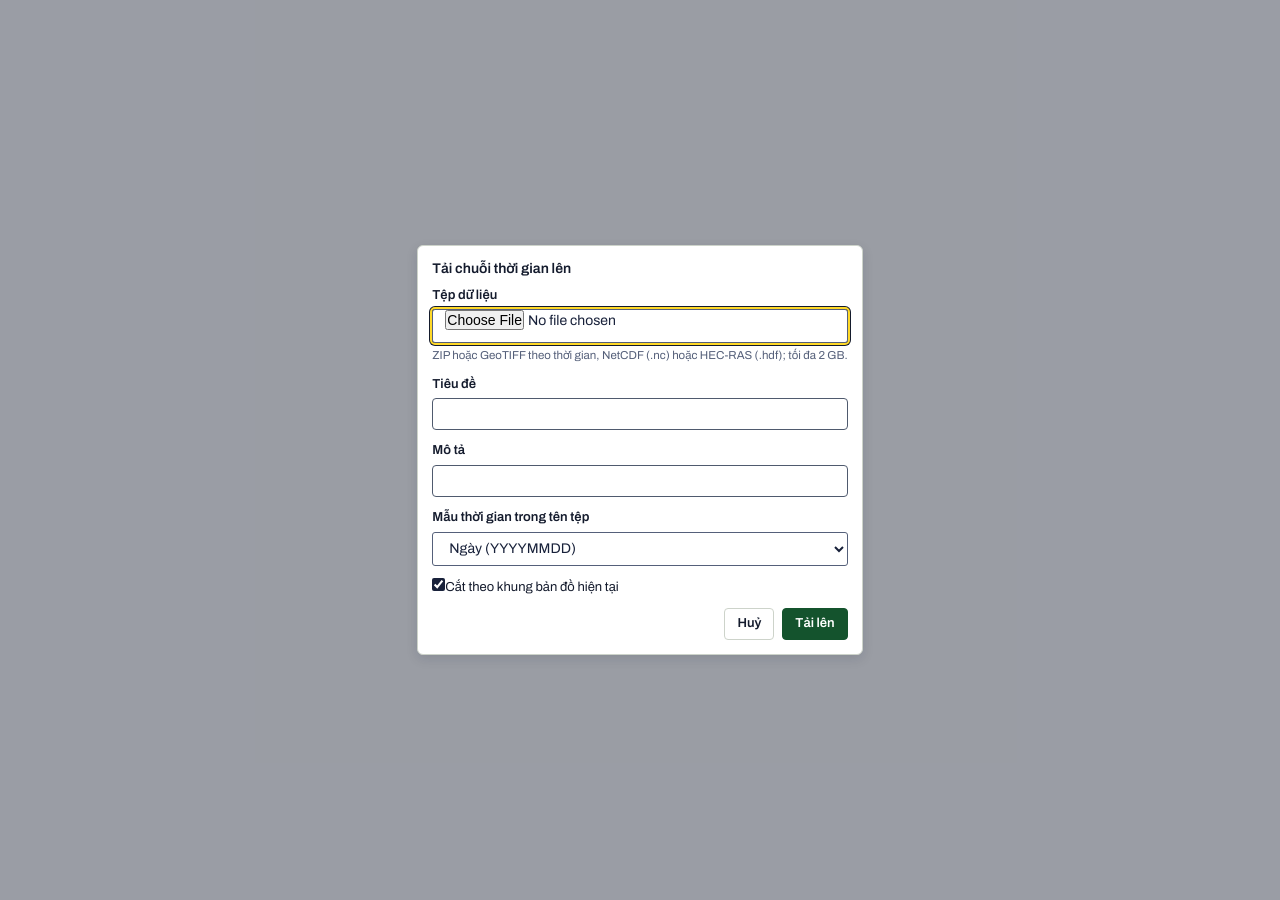
Test: TimeseriesUploadDialog › M14: a job still running when the dialog closes is followed and its entry put on the map
The width and height of the screenshot is (1280, 900).
Earlier steps of the test are not shown.
In the field labelled "Tiêu đề": (640, 414) 432,398 -> 848,430, type "Mưa"
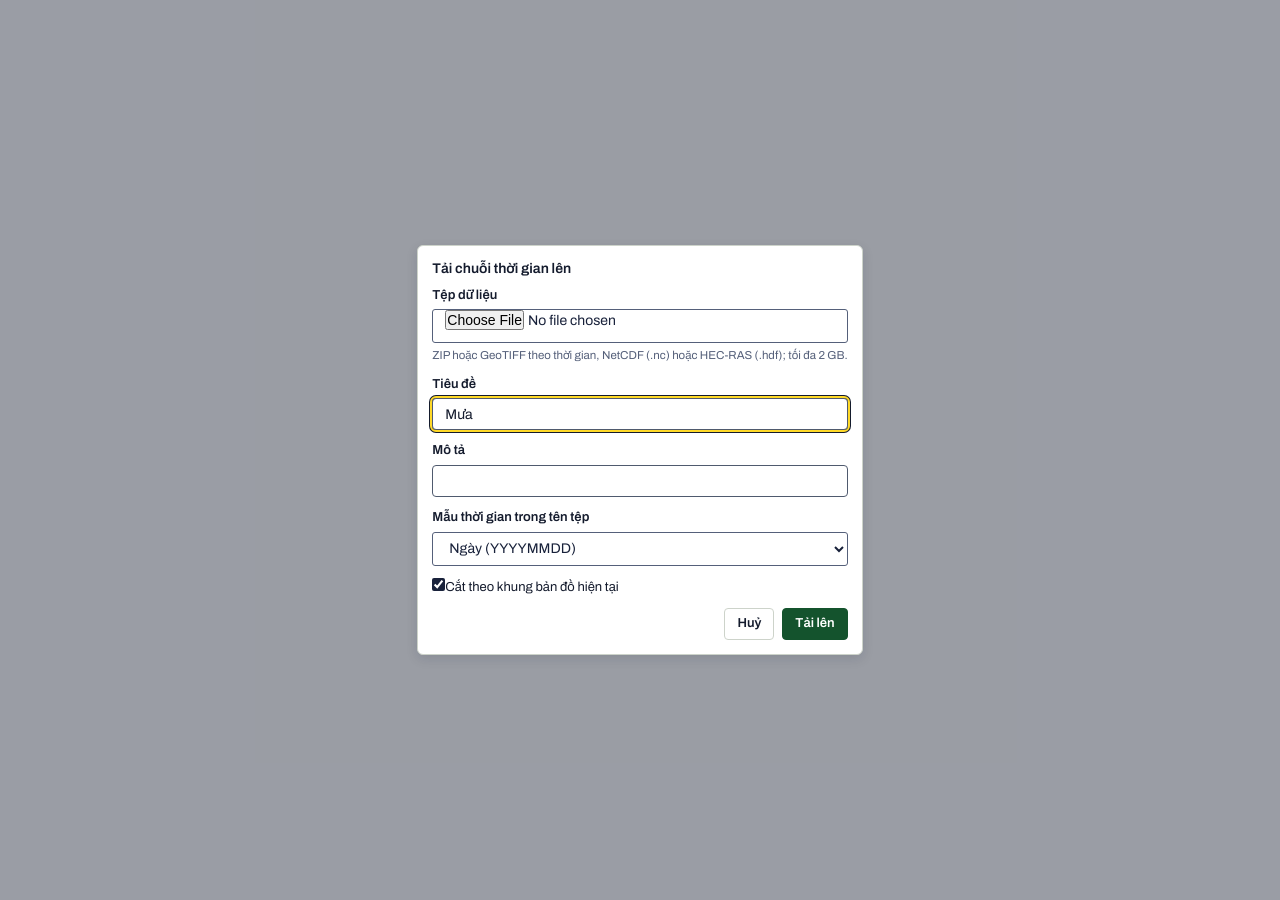
Click the button "Tải lên": (815, 624) 782,608 -> 848,640
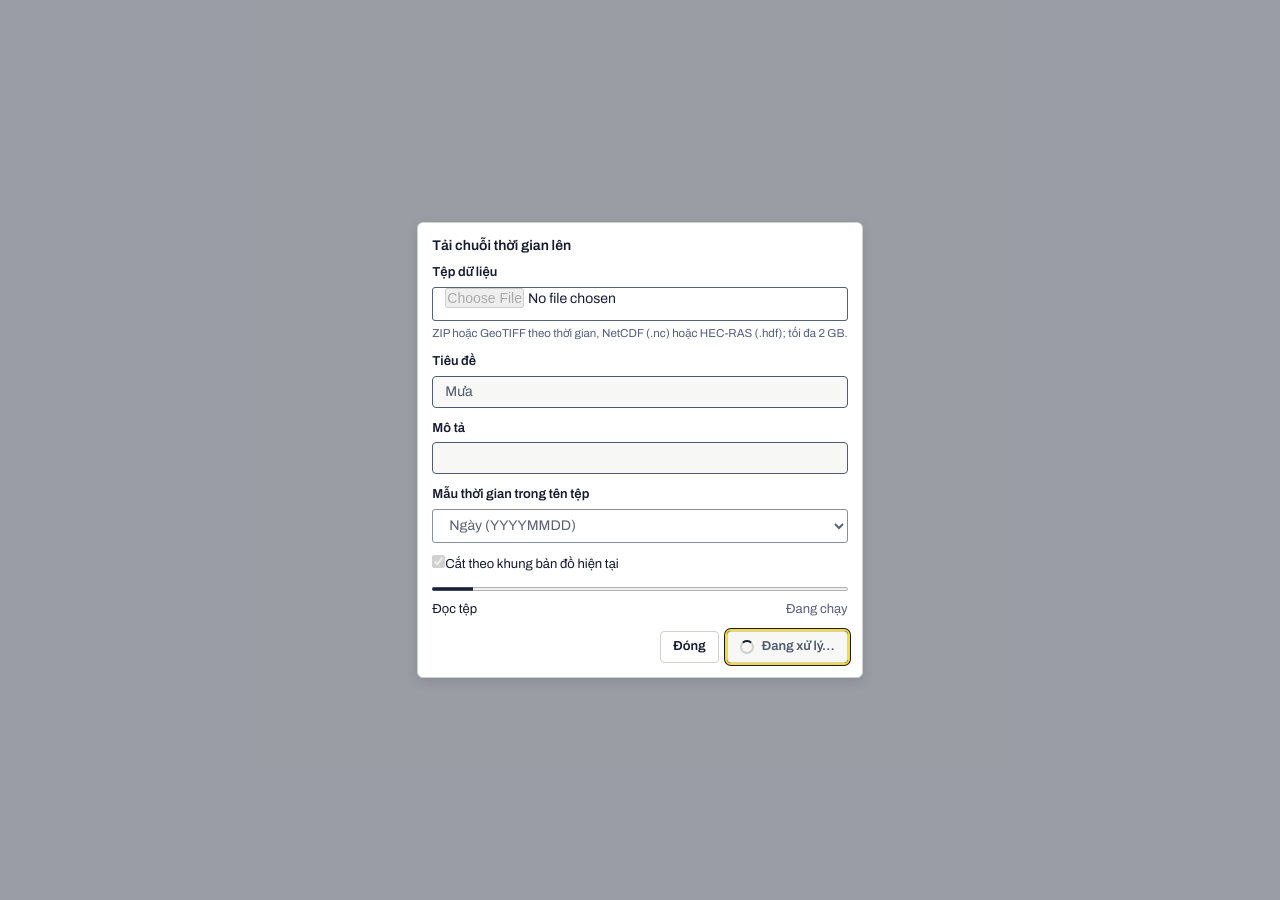
Expected: the text "Đọc tệp" is shown, 432,601 -> 477,619
